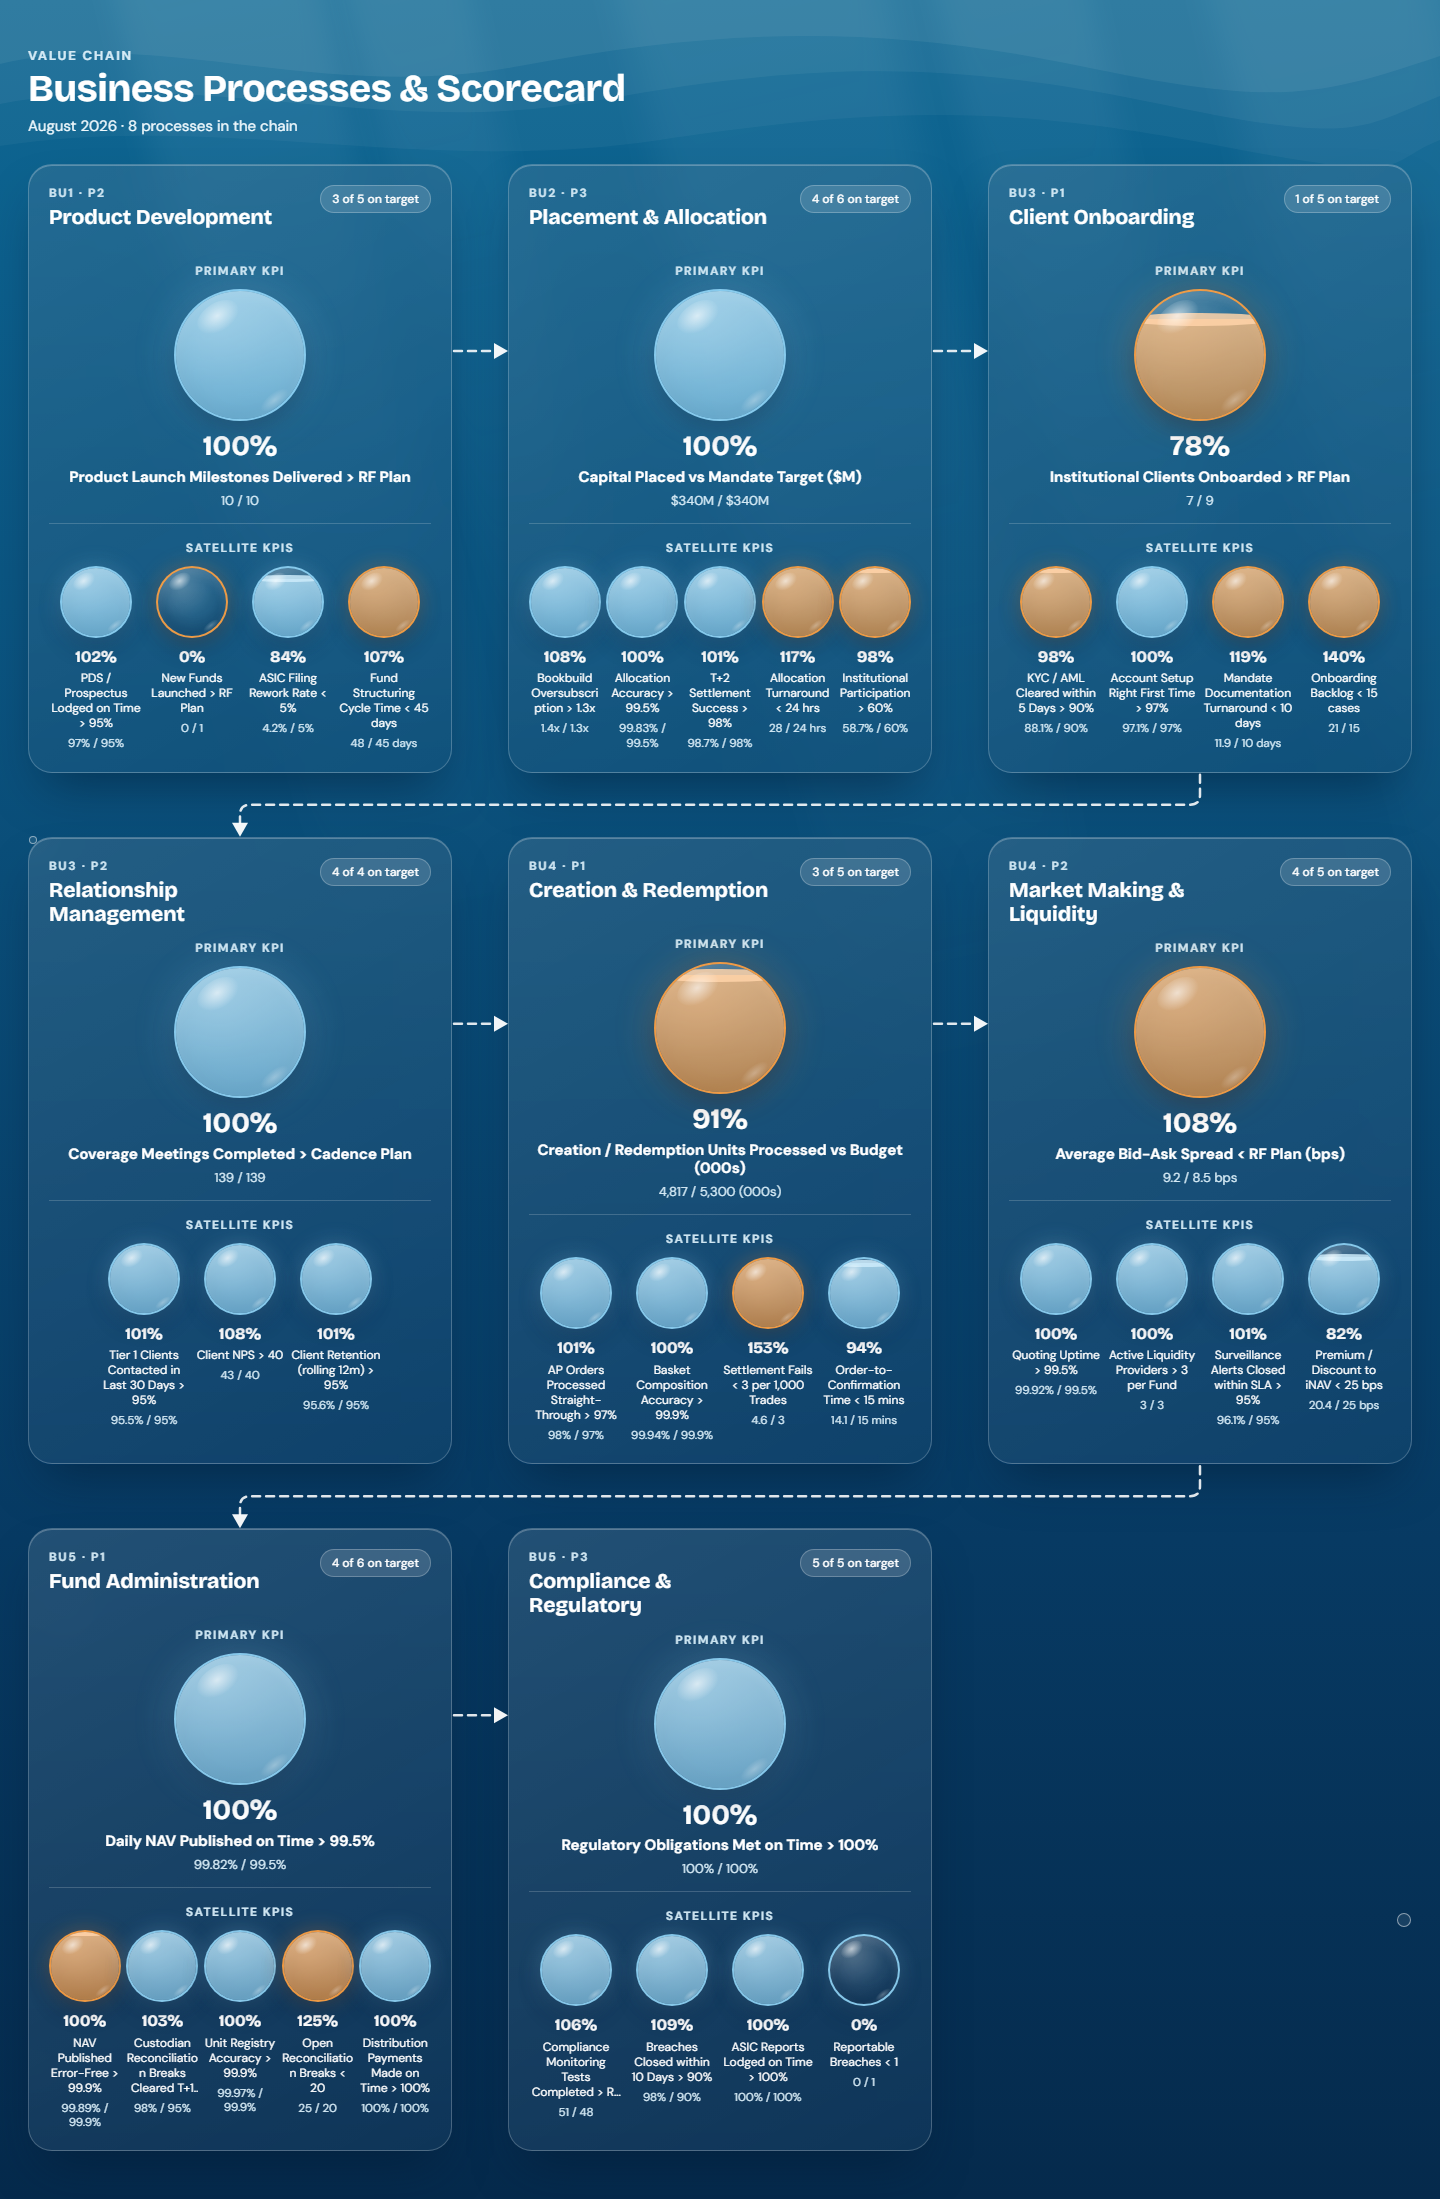

This screenshot's page, from the dashboard's own definition file:
{"tool":"powerbi","page":{"name":"Page 1","canvas":[1920,1080],"ordinal":0},"visuals":[{"type":"valueChainVisualiserE2BF44FFB3A34F0CB6D06A2CB79AE14B","fields":{"node":["Query1.node"],"nodeOrder":["Query1.nodeOrder"],"group":["Query1.group"],"subGroup":["Query1.subGroup"],"metric":["Query1.metric"],"operator":["Query1.operator"],"valueType":["Query1.valueType"],"symbol":["Query1.symbol"],"year":["Query1.year"],"period":["Query1.period"],"actual":["Sum(Query1.actual)"],"budget":["Sum(Query1.budget)"]},"box":[10.6,72.4,1768.1,1006.3],"z":0},{"type":"slicer","fields":{"Values":["Query1.year"]},"box":[911.2,16.6,247.4,55.8],"z":1},{"type":"slicer","fields":{"Values":["Query1.period"]},"box":[1169.2,16.6,274.6,55.8],"z":2}]}

Visuals, with their boxes on the page's 1920x1080 design canvas (x1, y1, x2, y2). These are canvas units, not pixel positions in the 1440x2199 screenshot, which may show the page scaled, cropped or inside an application window:
valueChainVisualiserE2BF44FFB3A34F0CB6D06A2CB79AE14B - Query1.node x Query1.nodeOrder: region(11, 72, 1779, 1079)
slicer - Query1.year: region(911, 17, 1159, 72)
slicer - Query1.period: region(1169, 17, 1444, 72)
